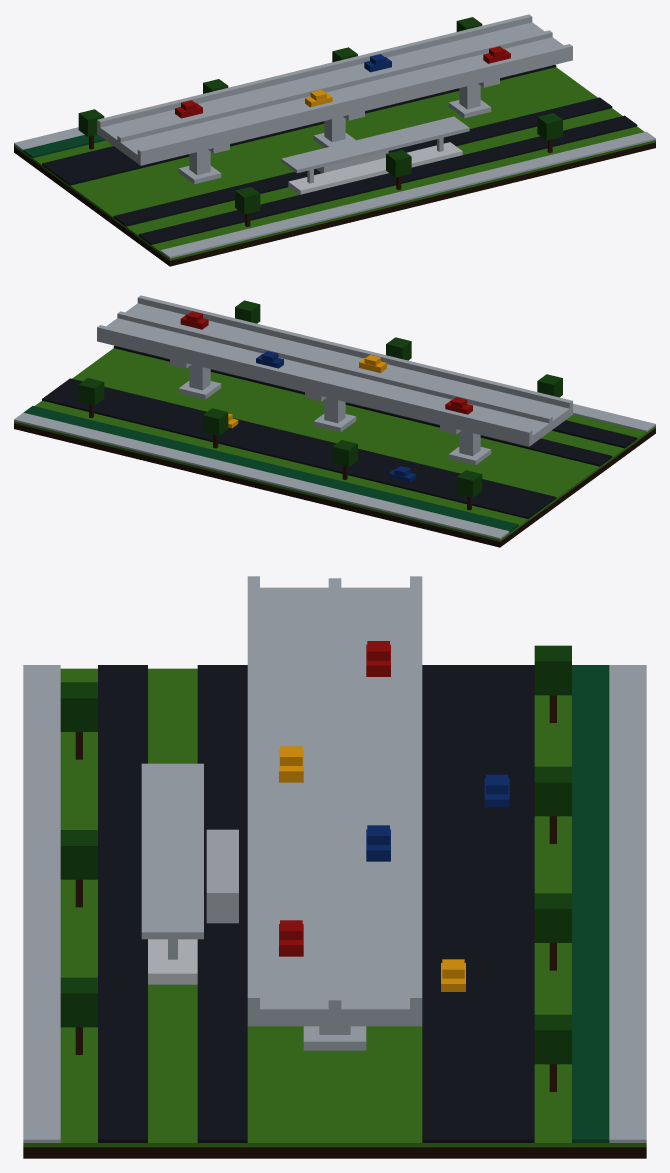
File: via-expresa-tinkercad-color.obj
The picture shows the model from 3 angles, top to bottom: view 1: azimuth 30°, elevation 25°; view 2: azimuth 150°, elevation 25°; view 3: azimuth 270°, elevation 25°; orthographic projection. The views are drawn at different scales.
Parts seen in each view (by area): view 1: 1_Terreno, 5_Pista_elevada, 2_A_nivel_del_piso, 3_Estaci_n_del_Metropolitano, 7_rboles, 4_Columnas, 6_Carros; view 2: 1_Terreno, 2_A_nivel_del_piso, 5_Pista_elevada, 7_rboles, 4_Columnas, 6_Carros; view 3: 2_A_nivel_del_piso, 5_Pista_elevada, 1_Terreno, 3_Estaci_n_del_Metropolitano, 7_rboles, 6_Carros, 4_Columnas.
Boxes of the visible parts, x1,y1,x2,y2 form: 1_Terreno: (14,67,655,266); 5_Pista_elevada: (97,14,572,165); 2_A_nivel_del_piso: (14,65,655,258); 3_Estaci_n_del_Metropolitano: (281,116,469,194); 7_rboles: (78,17,562,226); 4_Columnas: (178,78,499,184); 6_Carros: (175,46,510,118); 1_Terreno: (14,348,655,547); 2_A_nivel_del_piso: (14,346,655,539); 5_Pista_elevada: (97,295,572,446); 7_rboles: (78,300,562,510); 4_Columnas: (170,359,491,465); 6_Carros: (180,311,472,482); 2_A_nivel_del_piso: (23,665,646,1142); 5_Pista_elevada: (247,576,422,1026); 1_Terreno: (23,668,646,1158); 3_Estaci_n_del_Metropolitano: (141,763,238,984); 7_rboles: (60,645,571,1091); 6_Carros: (279,641,509,991); 4_Columnas: (303,1026,366,1050).
Size of the model in its own units: 90 by 12.7 by 50.
